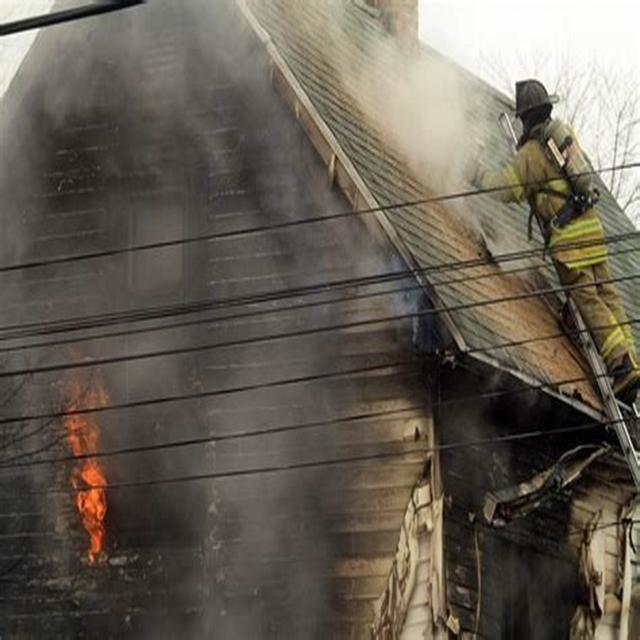fire: (73, 410, 107, 564)
smoke: (27, 30, 266, 246), (370, 39, 473, 162)
